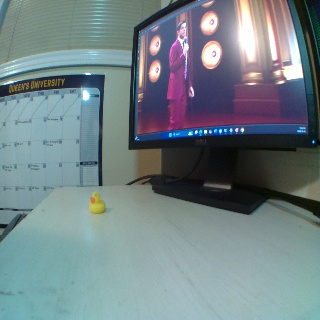duck_regular: (89, 190, 106, 214)
